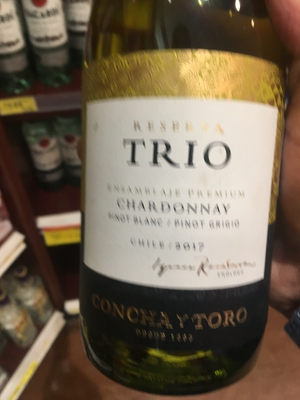trio chardonnay: (55, 9, 288, 386)
